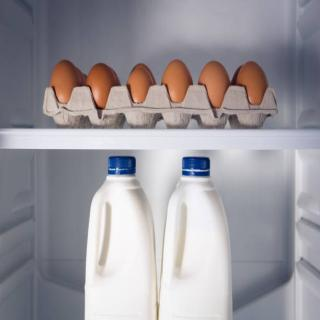Egg: (41, 47, 283, 128)
Milk: (162, 146, 240, 320), (83, 153, 161, 320)
